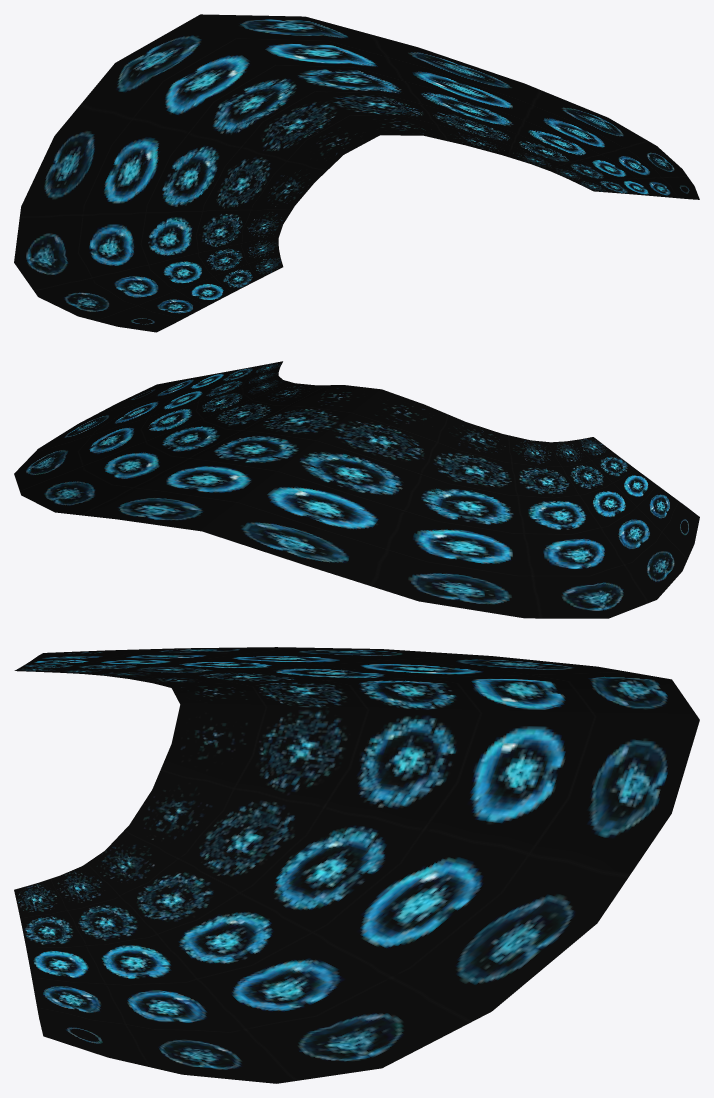
File: 0134_S_FX_chongjiao_shuidao.glb
The picture shows the model from 3 angles, top to bottom: view 1: azimuth 30°, elevation 25°; view 2: azimuth 150°, elevation 25°; view 3: azimuth 270°, elevation 25°; orthographic projection. The views are drawn at different scales.
Bounding box in the file's own units: 2.2 × 0.3763 × 1.46.
1 material, 1 textured.
